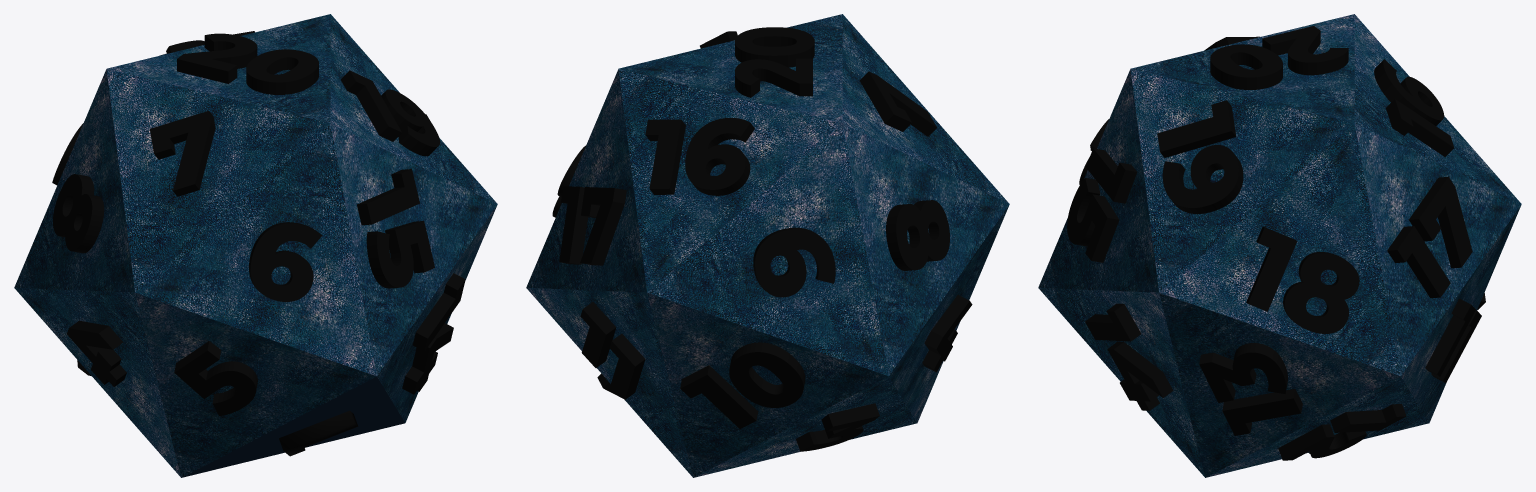
The model's file is dice_20.obj.
3 views of the same model, side by side, from view 1: azimuth 30°, elevation 25°; view 2: azimuth 150°, elevation 25°; view 3: azimuth 270°, elevation 25° (orthographic).
Parts seen in each view (by area): view 1: DICE_cut_1, n20, n15, n06, n19, n05, n07, n08, n14, n04, n01; view 2: DICE_cut_1, n16, n10, n20, n17, n09, n08, n11, n07, n03, n04; view 3: DICE_cut_1, n18, n19, n13, n20, n17, n15, n14, n16, n12, n11.
Boxes of the visible parts, bbox=[...] form: DICE_cut_1: bbox=[14, 14, 497, 477]; n20: bbox=[177, 33, 318, 94]; n15: bbox=[357, 169, 434, 288]; n06: bbox=[249, 222, 322, 301]; n19: bbox=[340, 70, 439, 156]; n05: bbox=[174, 341, 257, 415]; n07: bbox=[150, 111, 215, 196]; n08: bbox=[53, 174, 104, 253]; n14: bbox=[402, 273, 465, 394]; n04: bbox=[67, 320, 126, 386]; n01: bbox=[279, 410, 358, 456]; DICE_cut_1: bbox=[526, 14, 1009, 477]; n16: bbox=[645, 118, 754, 195]; n10: bbox=[680, 342, 805, 428]; n20: bbox=[735, 27, 814, 97]; n17: bbox=[559, 186, 626, 265]; n09: bbox=[753, 227, 835, 297]; n08: bbox=[886, 200, 949, 270]; n11: bbox=[580, 302, 645, 399]; n07: bbox=[859, 71, 936, 136]; n03: bbox=[796, 403, 879, 451]; n04: bbox=[922, 295, 972, 372]; DICE_cut_1: bbox=[1038, 14, 1521, 477]; n18: bbox=[1246, 226, 1359, 333]; n19: bbox=[1157, 100, 1243, 213]; n13: bbox=[1199, 343, 1302, 435]; n20: bbox=[1210, 26, 1348, 89]; n17: bbox=[1387, 176, 1472, 298]; n15: bbox=[1067, 148, 1137, 262]; n14: bbox=[1085, 303, 1173, 410]; n16: bbox=[1374, 59, 1454, 156]; n12: bbox=[1278, 404, 1406, 460]; n11: bbox=[1425, 298, 1481, 383].
Size of the model in its own units: 1.73 by 1.7 by 1.96.
